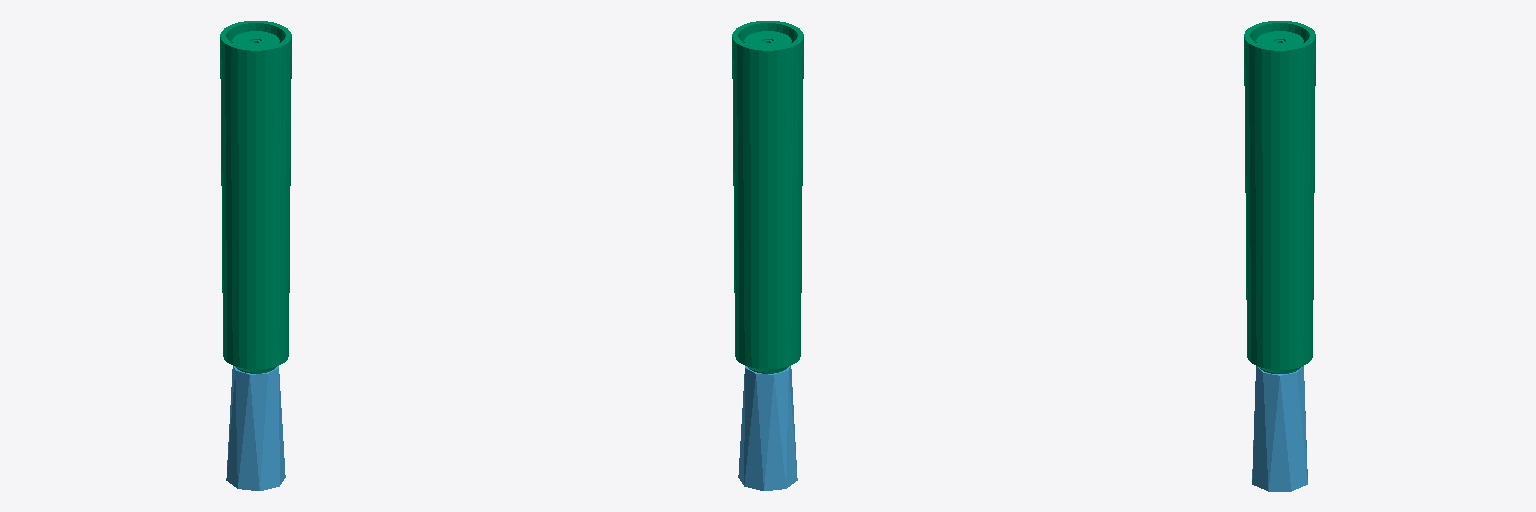
The robot description file, URDF, robot "partnet_8c948916421bd72d51012ba52856ea7a":
<?xml version="1.0" ?>
<robot name="partnet_8c948916421bd72d51012ba52856ea7a">
	<link name="base"/>
	<link name="link_0">
		<visual name="cap-2">
			<origin xyz="0 0 0"/>
			<geometry>
				<mesh filename="textured_objs/original-2.obj"/>
			</geometry>
		</visual>
		<collision>
			<origin xyz="0 0 0"/>
			<geometry>
				<mesh filename="textured_objs/original-2.obj"/>
			</geometry>
		</collision>
	</link>
	<joint name="joint_0" type="prismatic">
		<origin xyz="0 0 0"/>
		<axis xyz="0 -1 0"/>
		<child link="link_0"/>
		<parent link="link_1"/>
		<limit lower="-0.016000000000000014" upper="0.31200000000000006"/>
	</joint>
	<link name="link_1">
		<visual name="base_body-3">
			<origin xyz="0 0 0"/>
			<geometry>
				<mesh filename="textured_objs/original-1.obj"/>
			</geometry>
		</visual>
		<collision>
			<origin xyz="0 0 0"/>
			<geometry>
				<mesh filename="textured_objs/original-1.obj"/>
			</geometry>
		</collision>
	</link>
	<joint name="joint_1" type="fixed">
		<origin rpy="1.570796326794897 0 -1.570796326794897" xyz="0 0 0"/>
		<child link="link_1"/>
		<parent link="base"/>
	</joint>
</robot>

--- Render facts (derived) ---
The picture shows the robot from 3 angles, left to right: view 1: azimuth 30°, elevation 25°; view 2: azimuth 150°, elevation 25°; view 3: azimuth 270°, elevation 25°; orthographic projection.
Robot: partnet_8c948916421bd72d51012ba52856ea7a — 3 links, 2 joints (1 prismatic, 1 fixed); root link base; default pose: all joints at 0.
Visible links, largest first — view 1: link_1, link_0; view 2: link_1, link_0; view 3: link_1, link_0.
Link boxes in pixels (<box>): link_1: <box>220,21,291,373</box>; link_0: <box>226,366,285,490</box>; link_1: <box>732,21,803,373</box>; link_0: <box>738,366,797,490</box>; link_1: <box>1244,21,1315,373</box>; link_0: <box>1252,366,1307,491</box>.
Size in the robot's own frame: 0.2842 by 0.2842 by 1.94 metres.
2 mesh visuals loaded from 2 distinct referenced files (2 OBJ).